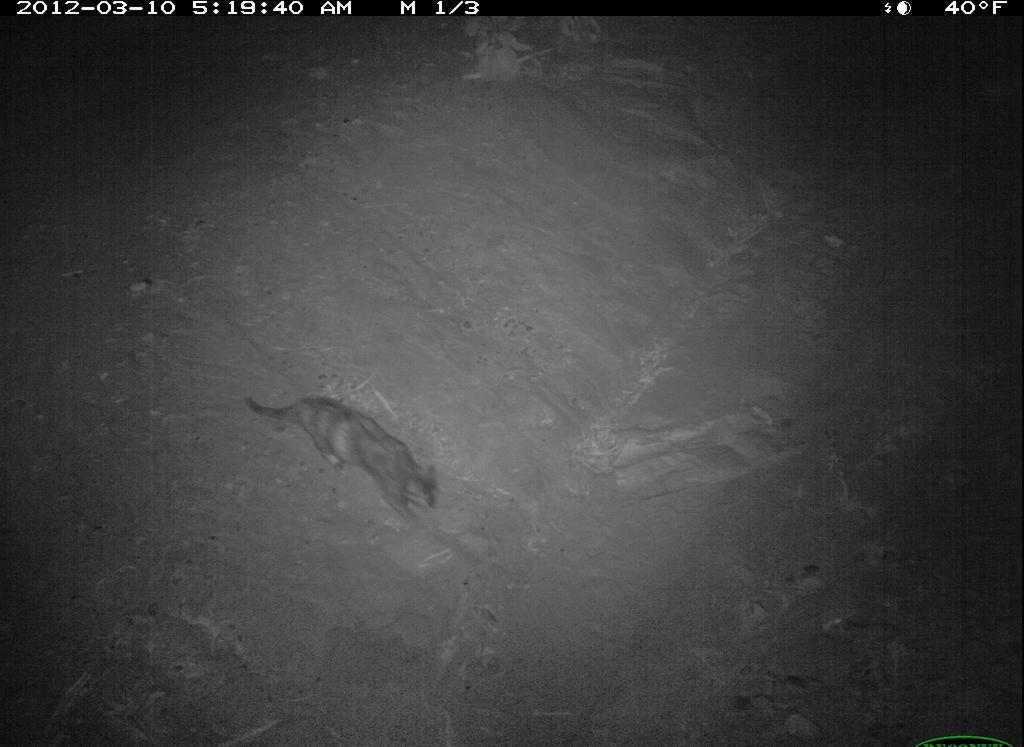cat: (240, 385, 450, 527)
